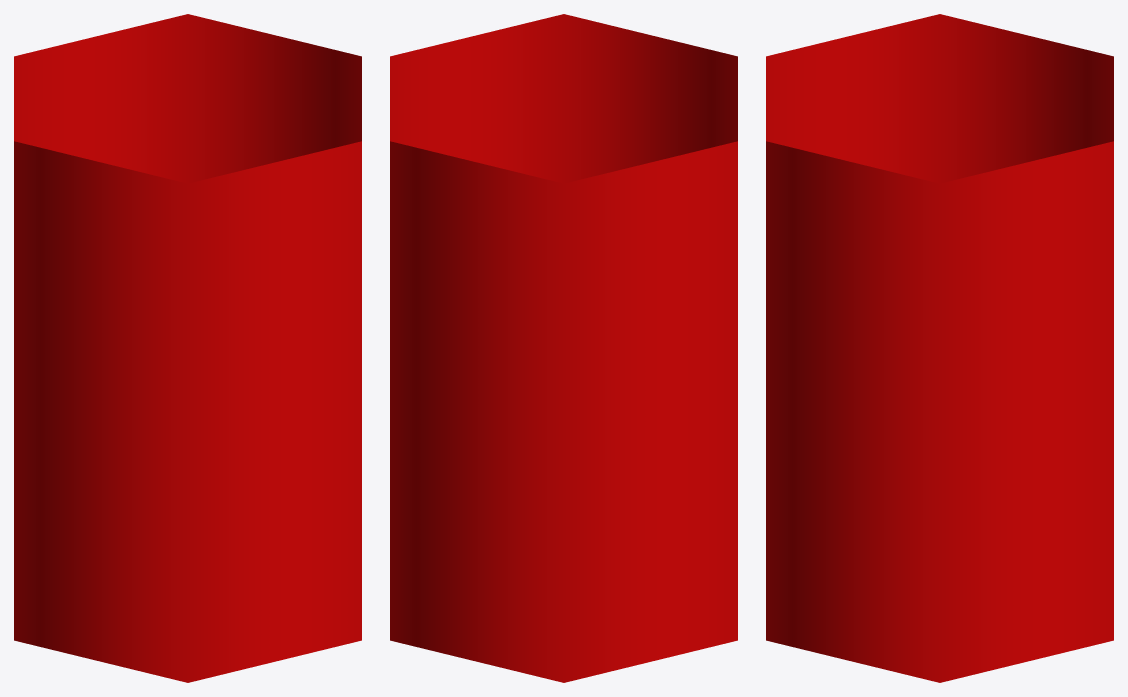
File: marker.FBX
The picture shows the model from 3 angles, left to right: view 1: azimuth 30°, elevation 25°; view 2: azimuth 150°, elevation 25°; view 3: azimuth 270°, elevation 25°; orthographic projection.
Parts seen in each view (by area): view 1: marker; view 2: marker; view 3: marker.
Boxes of the visible parts, box(x1,y1,x2,y2) form: marker: box(14, 14, 361, 682); marker: box(390, 14, 737, 682); marker: box(766, 14, 1113, 682).
Bounding box in the file's own units: 140 × 192 × 121.
